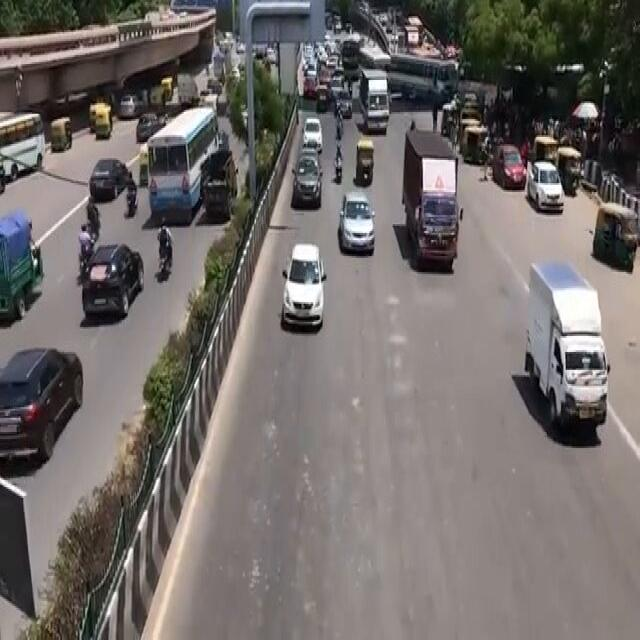three_wheeler: (349, 132, 378, 190)
